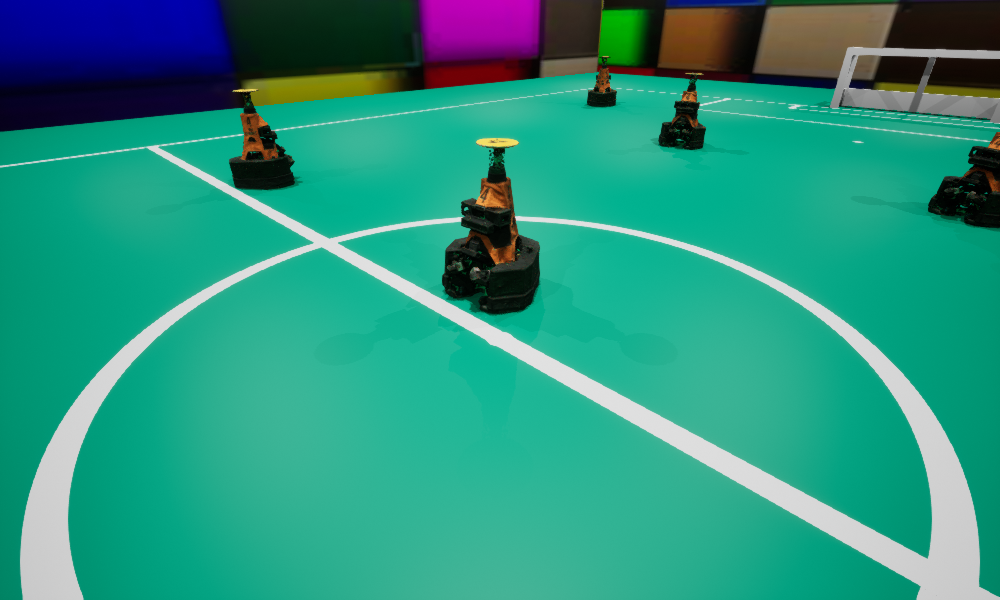0 orange robot TechUnited: (442, 138, 539, 312), (928, 132, 999, 226), (229, 89, 294, 189), (658, 73, 705, 148), (587, 56, 616, 106)
